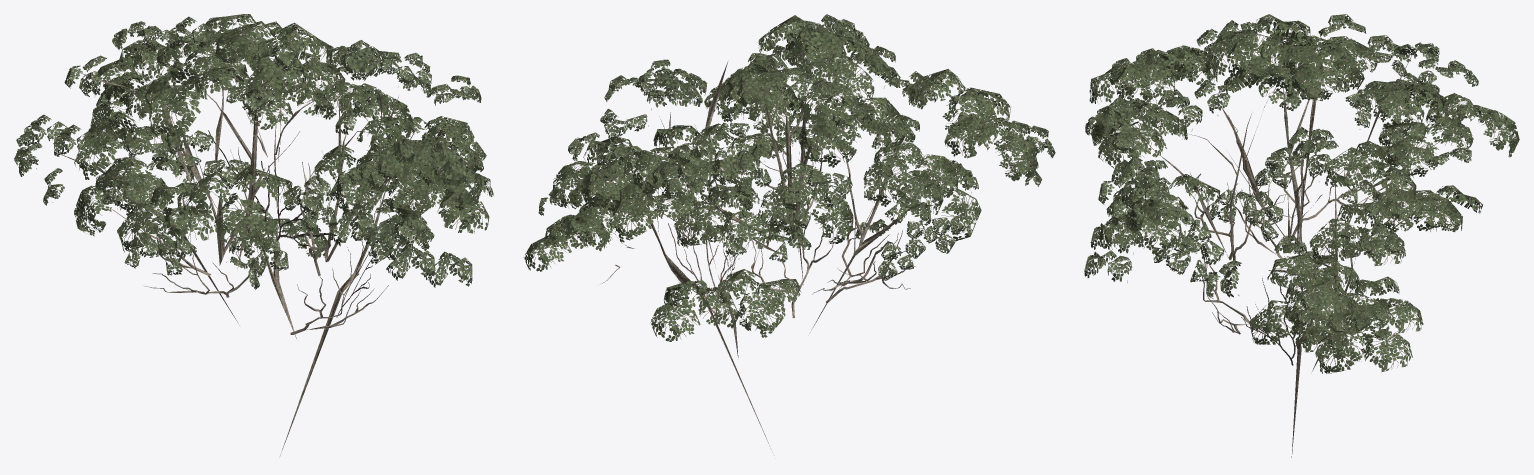
The model's file is tree.glb.
3 views of the same model, side by side, from view 1: azimuth 30°, elevation 25°; view 2: azimuth 150°, elevation 25°; view 3: azimuth 270°, elevation 25° (orthographic). The views are drawn at different scales.
Visible parts, largest first — view 1: Mesh_LEAFS_0, Mesh_trunk_0, Mesh_branches_0; view 2: Mesh_LEAFS_0, Mesh_trunk_0, Mesh_branches_0; view 3: Mesh_LEAFS_0, Mesh_trunk_0, Mesh_branches_0.
Boxes of the visible parts, x1,y1,x2,y2 form: Mesh_LEAFS_0: (14,14,493,289); Mesh_trunk_0: (60,64,421,455); Mesh_branches_0: (208,130,390,317); Mesh_LEAFS_0: (523,14,1055,341); Mesh_trunk_0: (617,62,933,452); Mesh_branches_0: (602,214,740,323); Mesh_LEAFS_0: (1084,14,1519,373); Mesh_trunk_0: (1148,48,1439,457); Mesh_branches_0: (1241,186,1412,365).
Size of the model in its own units: 15.4 by 15.05 by 13.84.
3 materials, 3 textured.
